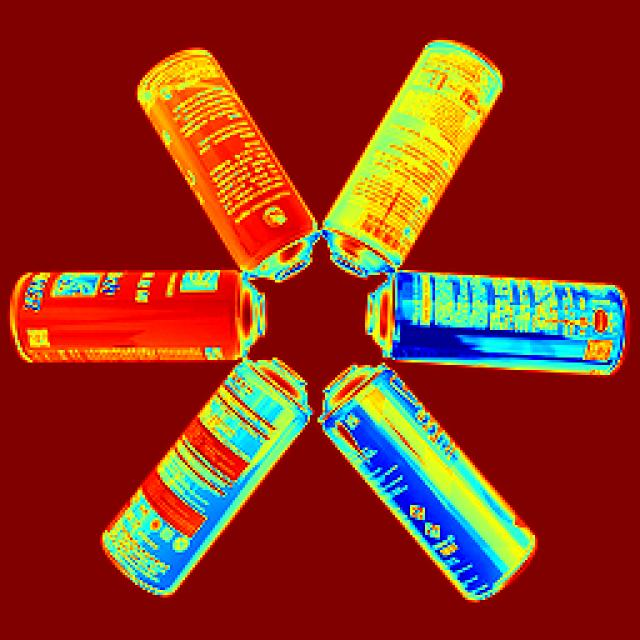Aerosol Cans: (326, 368, 547, 610), (330, 32, 524, 270), (124, 361, 312, 603), (137, 53, 326, 276), (338, 260, 639, 384), (5, 260, 278, 377)
